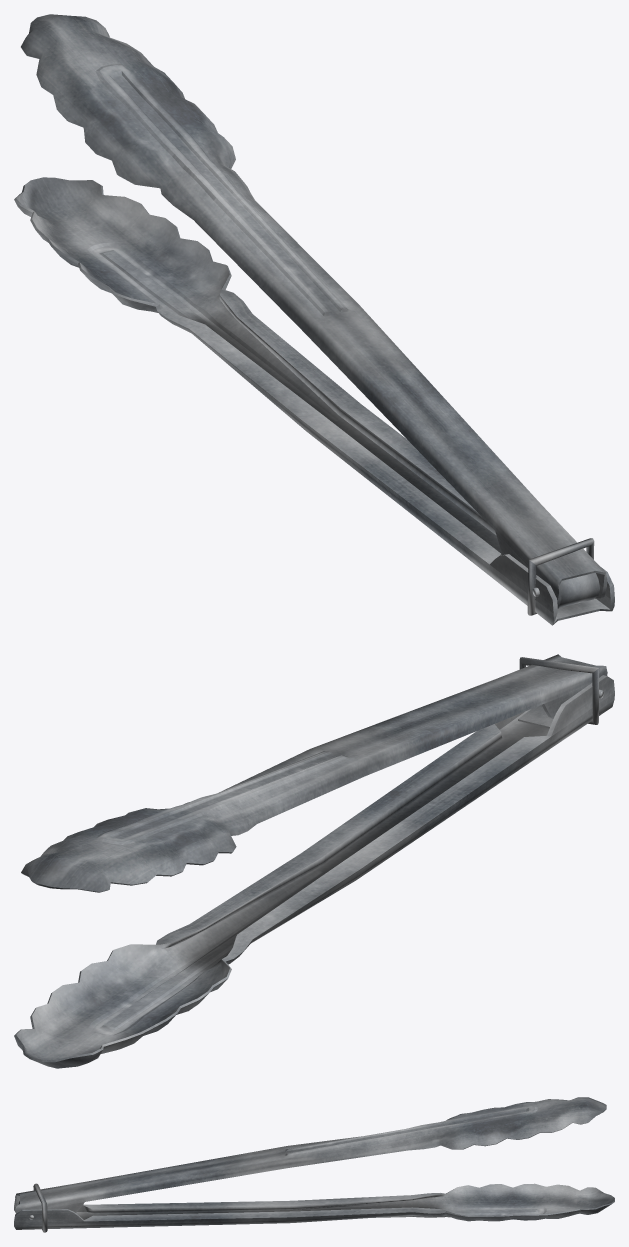
The model's file is MD_tong (1).fbx.
3 renders of one model, top to bottom at view 1: azimuth 30°, elevation 25°; view 2: azimuth 150°, elevation 25°; view 3: azimuth 270°, elevation 25°, orthographic. The views are drawn at different scales.
Parts seen in each view (by area): view 1: tong_ue, tong_sita, tong_tomegu; view 2: tong_sita, tong_ue, tong_tomegu; view 3: tong_sita, tong_ue, tong_tomegu.
Part boxes in pixels (x1,y1,x2,y2): tong_ue: (21,14,607,608); tong_sita: (14,177,614,625); tong_tomegu: (527,538,599,615); tong_sita: (14,675,614,1068); tong_ue: (21,654,607,892); tong_tomegu: (518,657,603,728); tong_sita: (14,1183,614,1229); tong_ue: (15,1097,606,1213); tong_tomegu: (18,1183,47,1232).
Size of the model in its own units: 3 by 5.38 by 23.91.
Materials: 1 (1 with a texture image).
